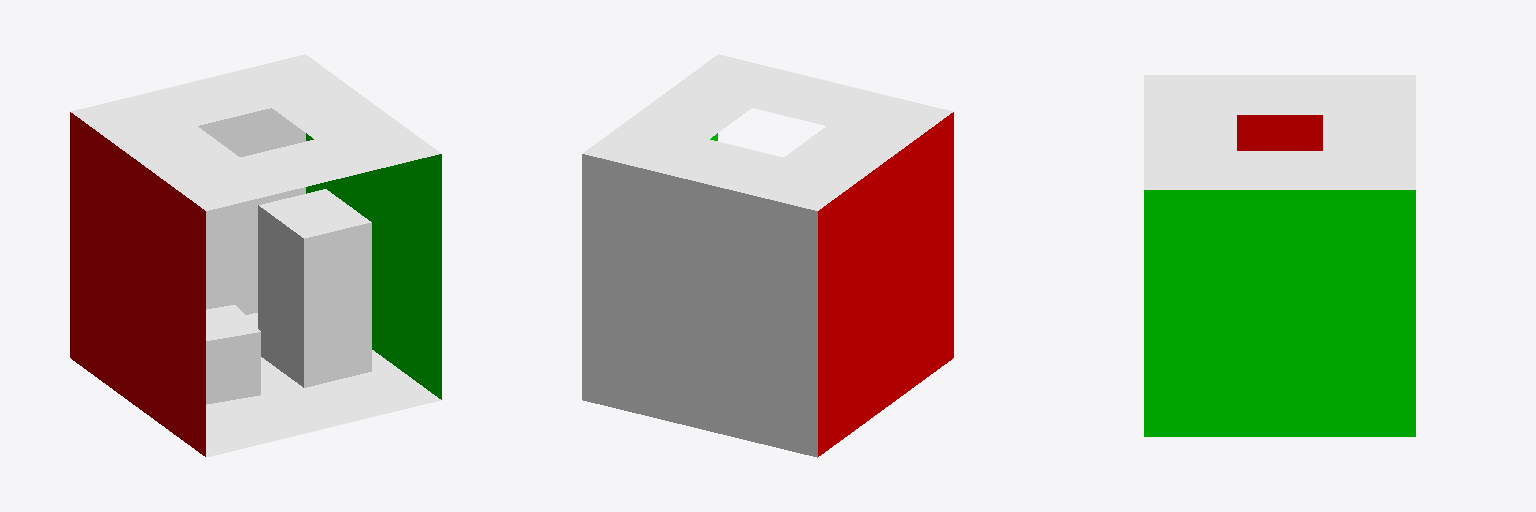
The model's file is cornellbox.obj.
3 renders of one model, left to right at view 1: azimuth 30°, elevation 25°; view 2: azimuth 150°, elevation 25°; view 3: azimuth 270°, elevation 25°, orthographic.
Parts seen in each view (by area): view 1: wall, red, boxes, green; view 2: wall, red; view 3: green, wall, red.
Boxes of the visible parts, x1,y1,x2,y2 form: wall: [71, 54, 440, 457]; red: [70, 112, 205, 456]; boxes: [206, 189, 371, 404]; green: [306, 133, 441, 399]; wall: [582, 54, 952, 457]; red: [818, 112, 953, 456]; green: [1144, 190, 1415, 436]; wall: [1144, 75, 1415, 189]; red: [1237, 115, 1322, 150].
Size of the model in its own units: 1.56 by 1.56 by 1.56.